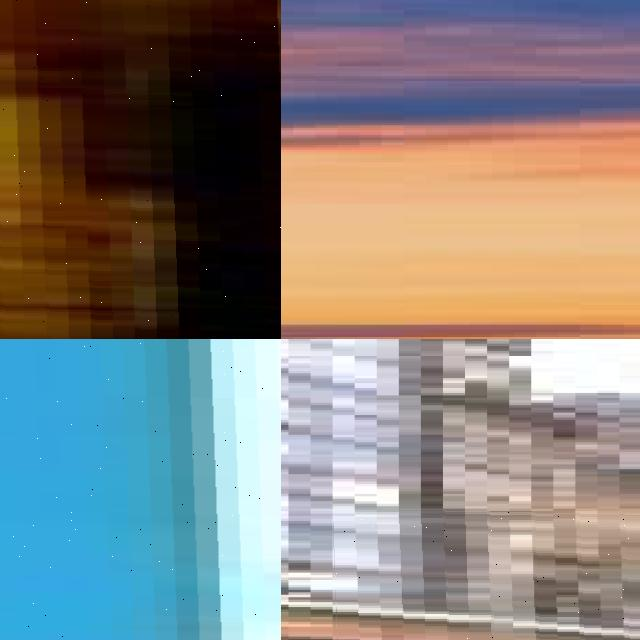street light: (0, 0, 281, 339), (0, 339, 281, 640), (332, 508, 640, 640)
